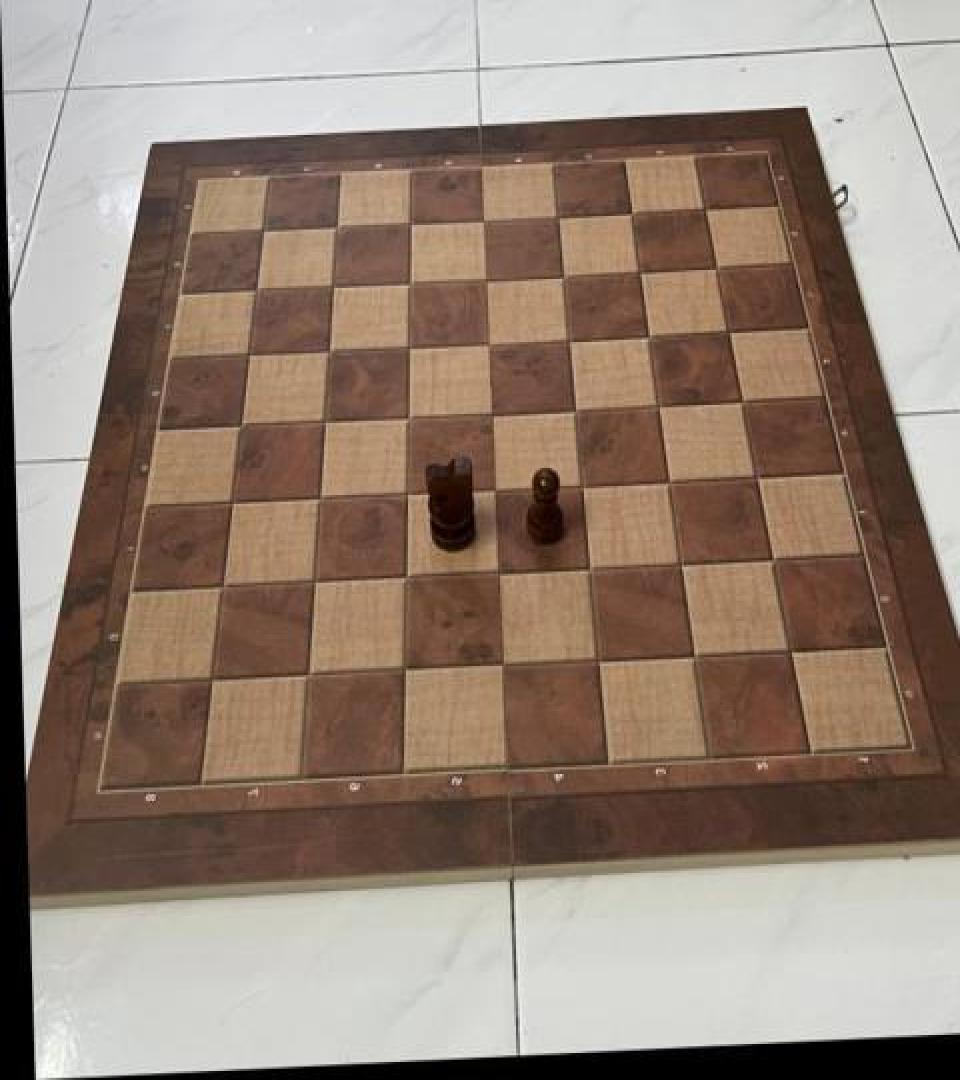xcorner: (467, 200, 501, 239), (232, 335, 266, 374), (296, 562, 330, 601), (386, 650, 420, 689), (247, 212, 281, 250), (320, 208, 354, 246), (394, 205, 428, 243), (541, 197, 575, 235), (615, 194, 649, 232), (688, 190, 722, 228), (240, 271, 274, 309), (316, 267, 350, 305), (393, 264, 427, 302), (469, 260, 503, 298), (546, 256, 580, 294), (622, 253, 656, 291), (699, 249, 733, 287), (312, 332, 346, 370), (391, 328, 425, 366), (471, 324, 505, 362), (551, 321, 585, 359), (631, 316, 665, 354), (711, 313, 745, 351), (224, 405, 258, 443), (307, 402, 341, 440), (390, 398, 424, 436), (473, 394, 507, 432), (557, 390, 591, 428), (640, 386, 674, 424), (724, 382, 758, 420), (215, 483, 249, 521), (302, 478, 336, 516), (389, 474, 423, 512), (476, 470, 510, 508), (563, 466, 597, 504), (650, 462, 684, 500), (737, 458, 771, 496), (205, 566, 239, 604), (387, 558, 421, 596), (479, 554, 513, 592), (570, 549, 604, 587), (661, 544, 695, 582), (753, 541, 787, 579), (194, 660, 228, 698), (290, 655, 324, 693), (482, 646, 516, 684), (578, 642, 612, 680), (674, 637, 708, 675), (770, 632, 804, 670)
